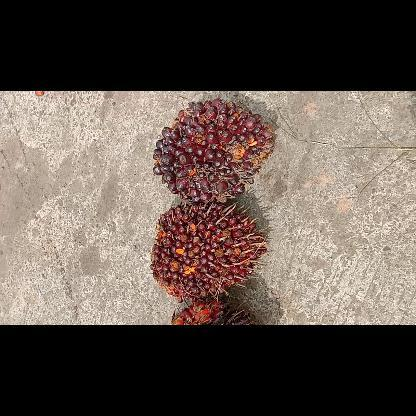Kurang masak: (152, 100, 274, 200), (151, 202, 267, 302)
TBS masak: (170, 304, 258, 324)
